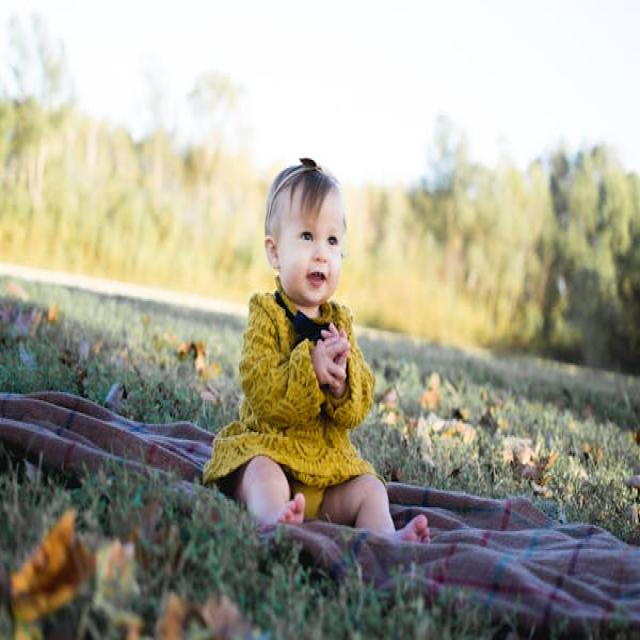Real human 2: (210, 126, 435, 562)
